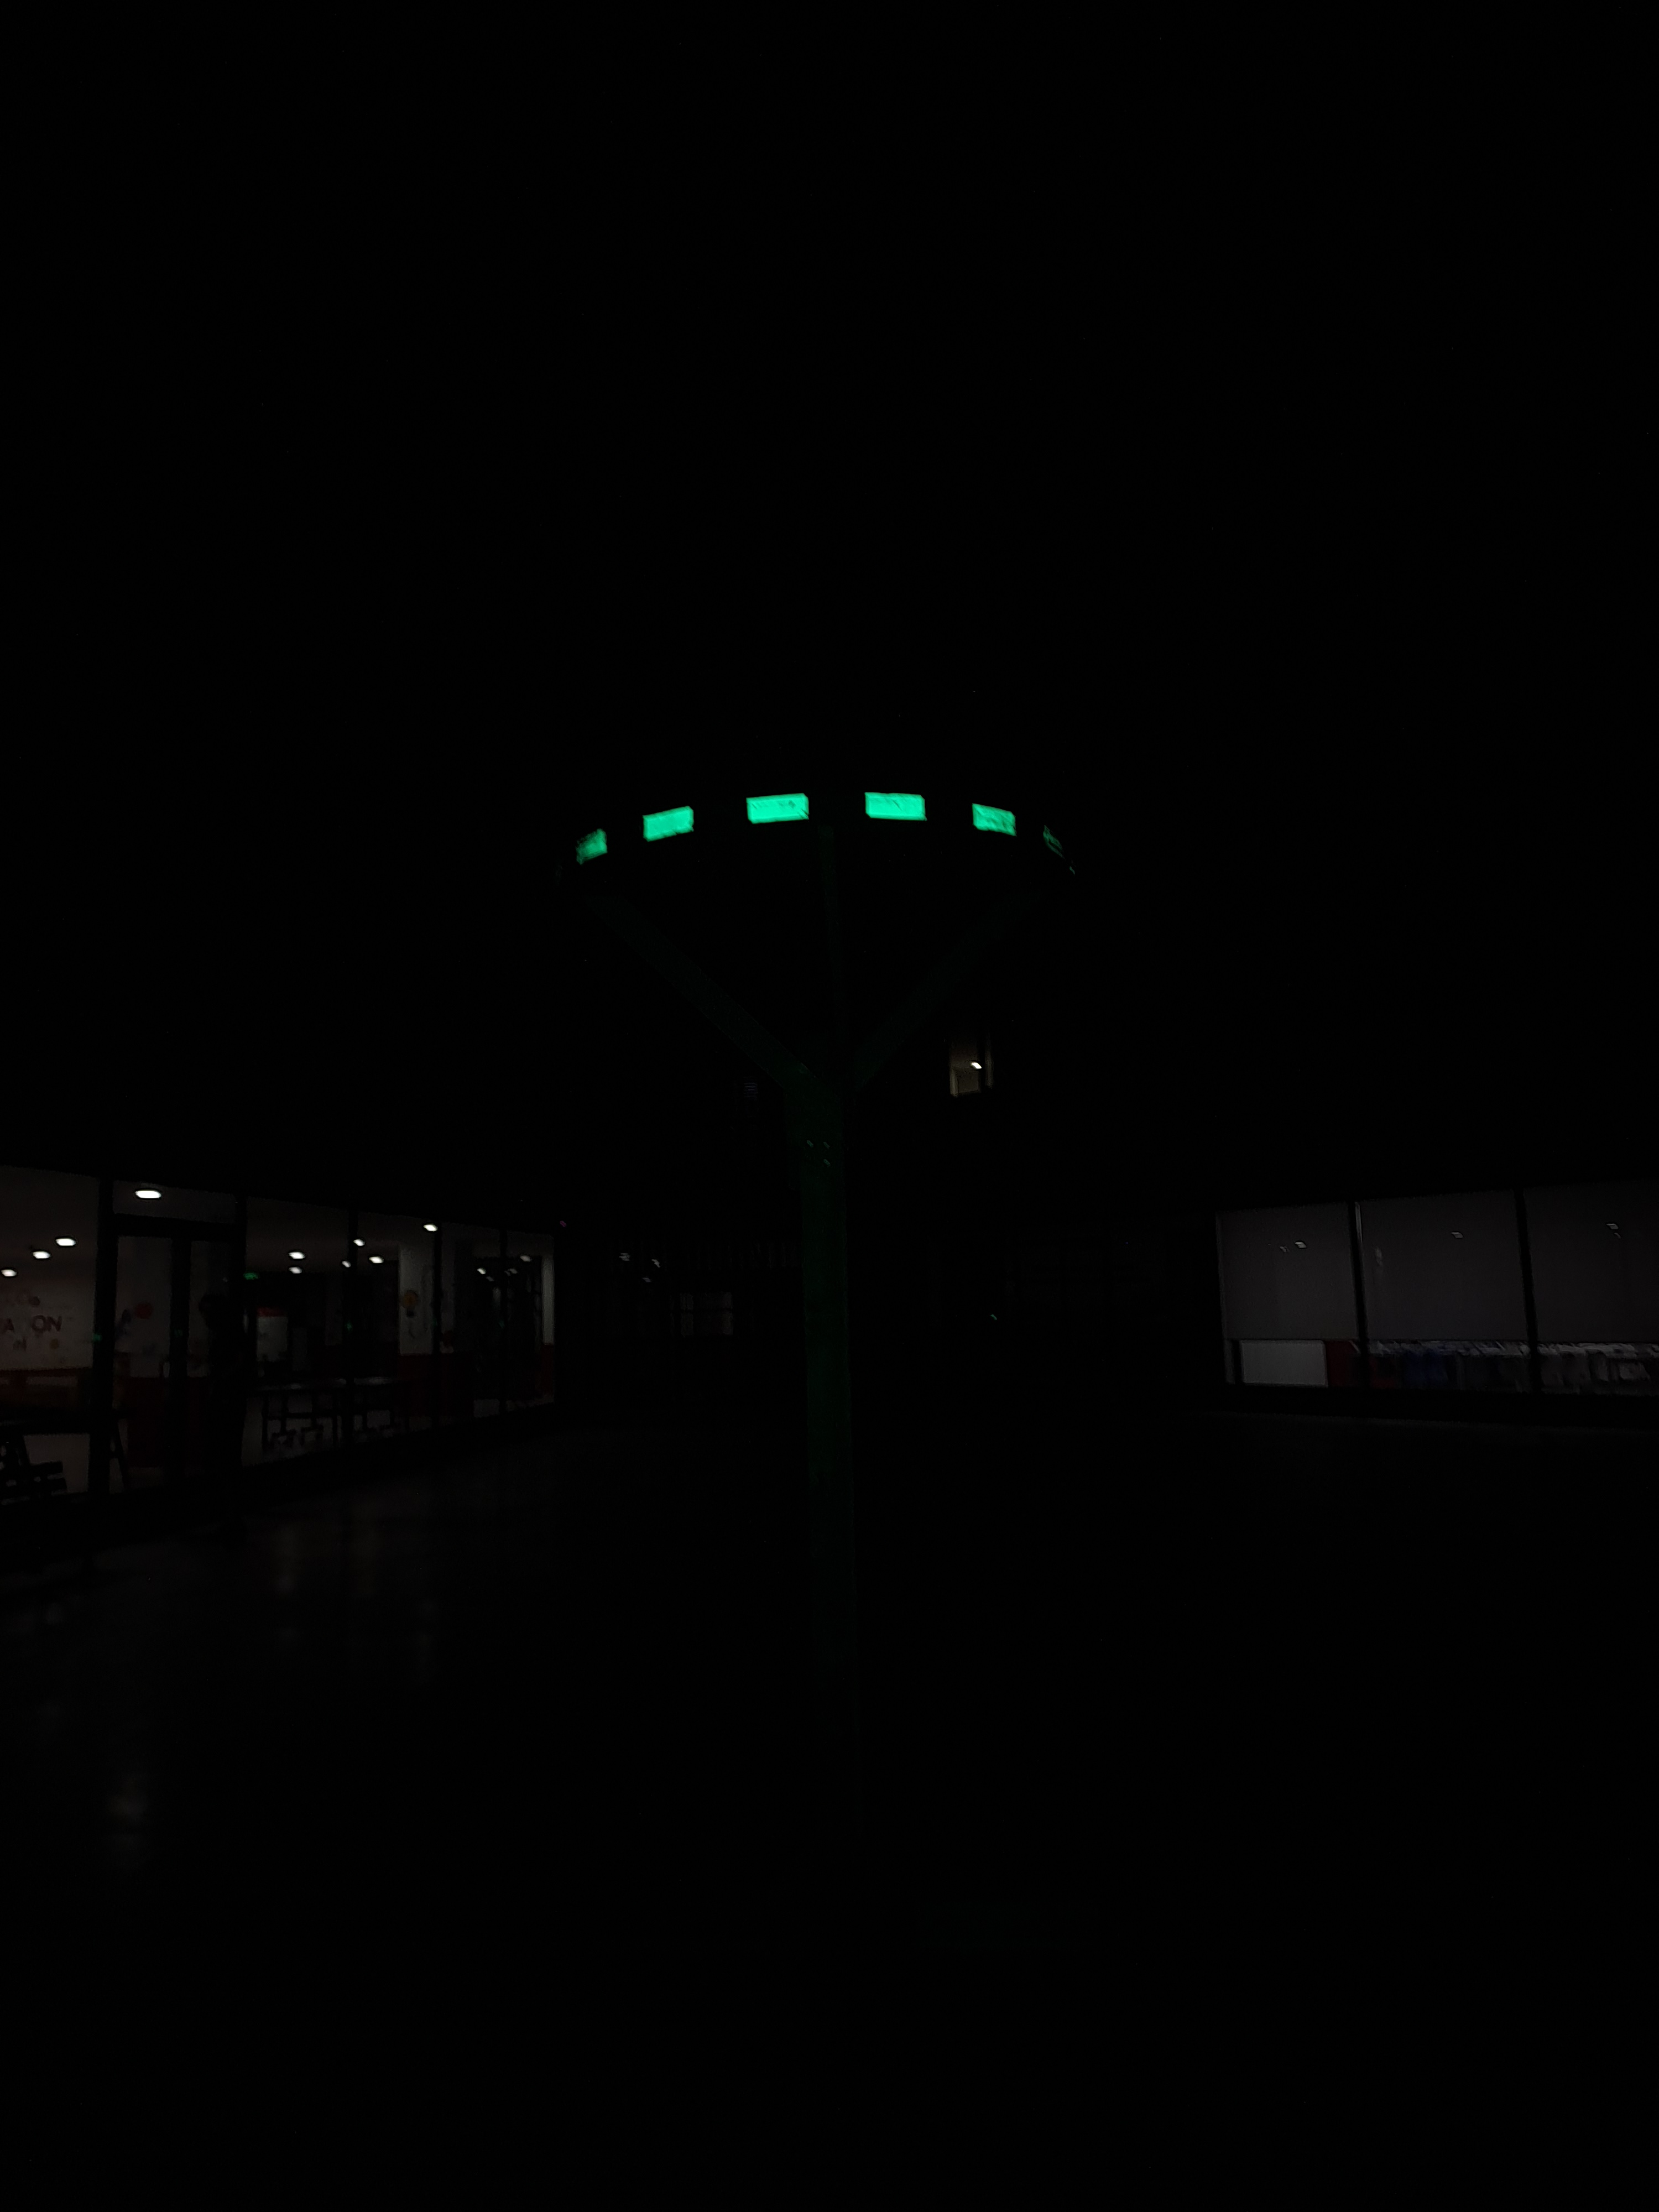hoop: (566, 786, 1019, 869)
